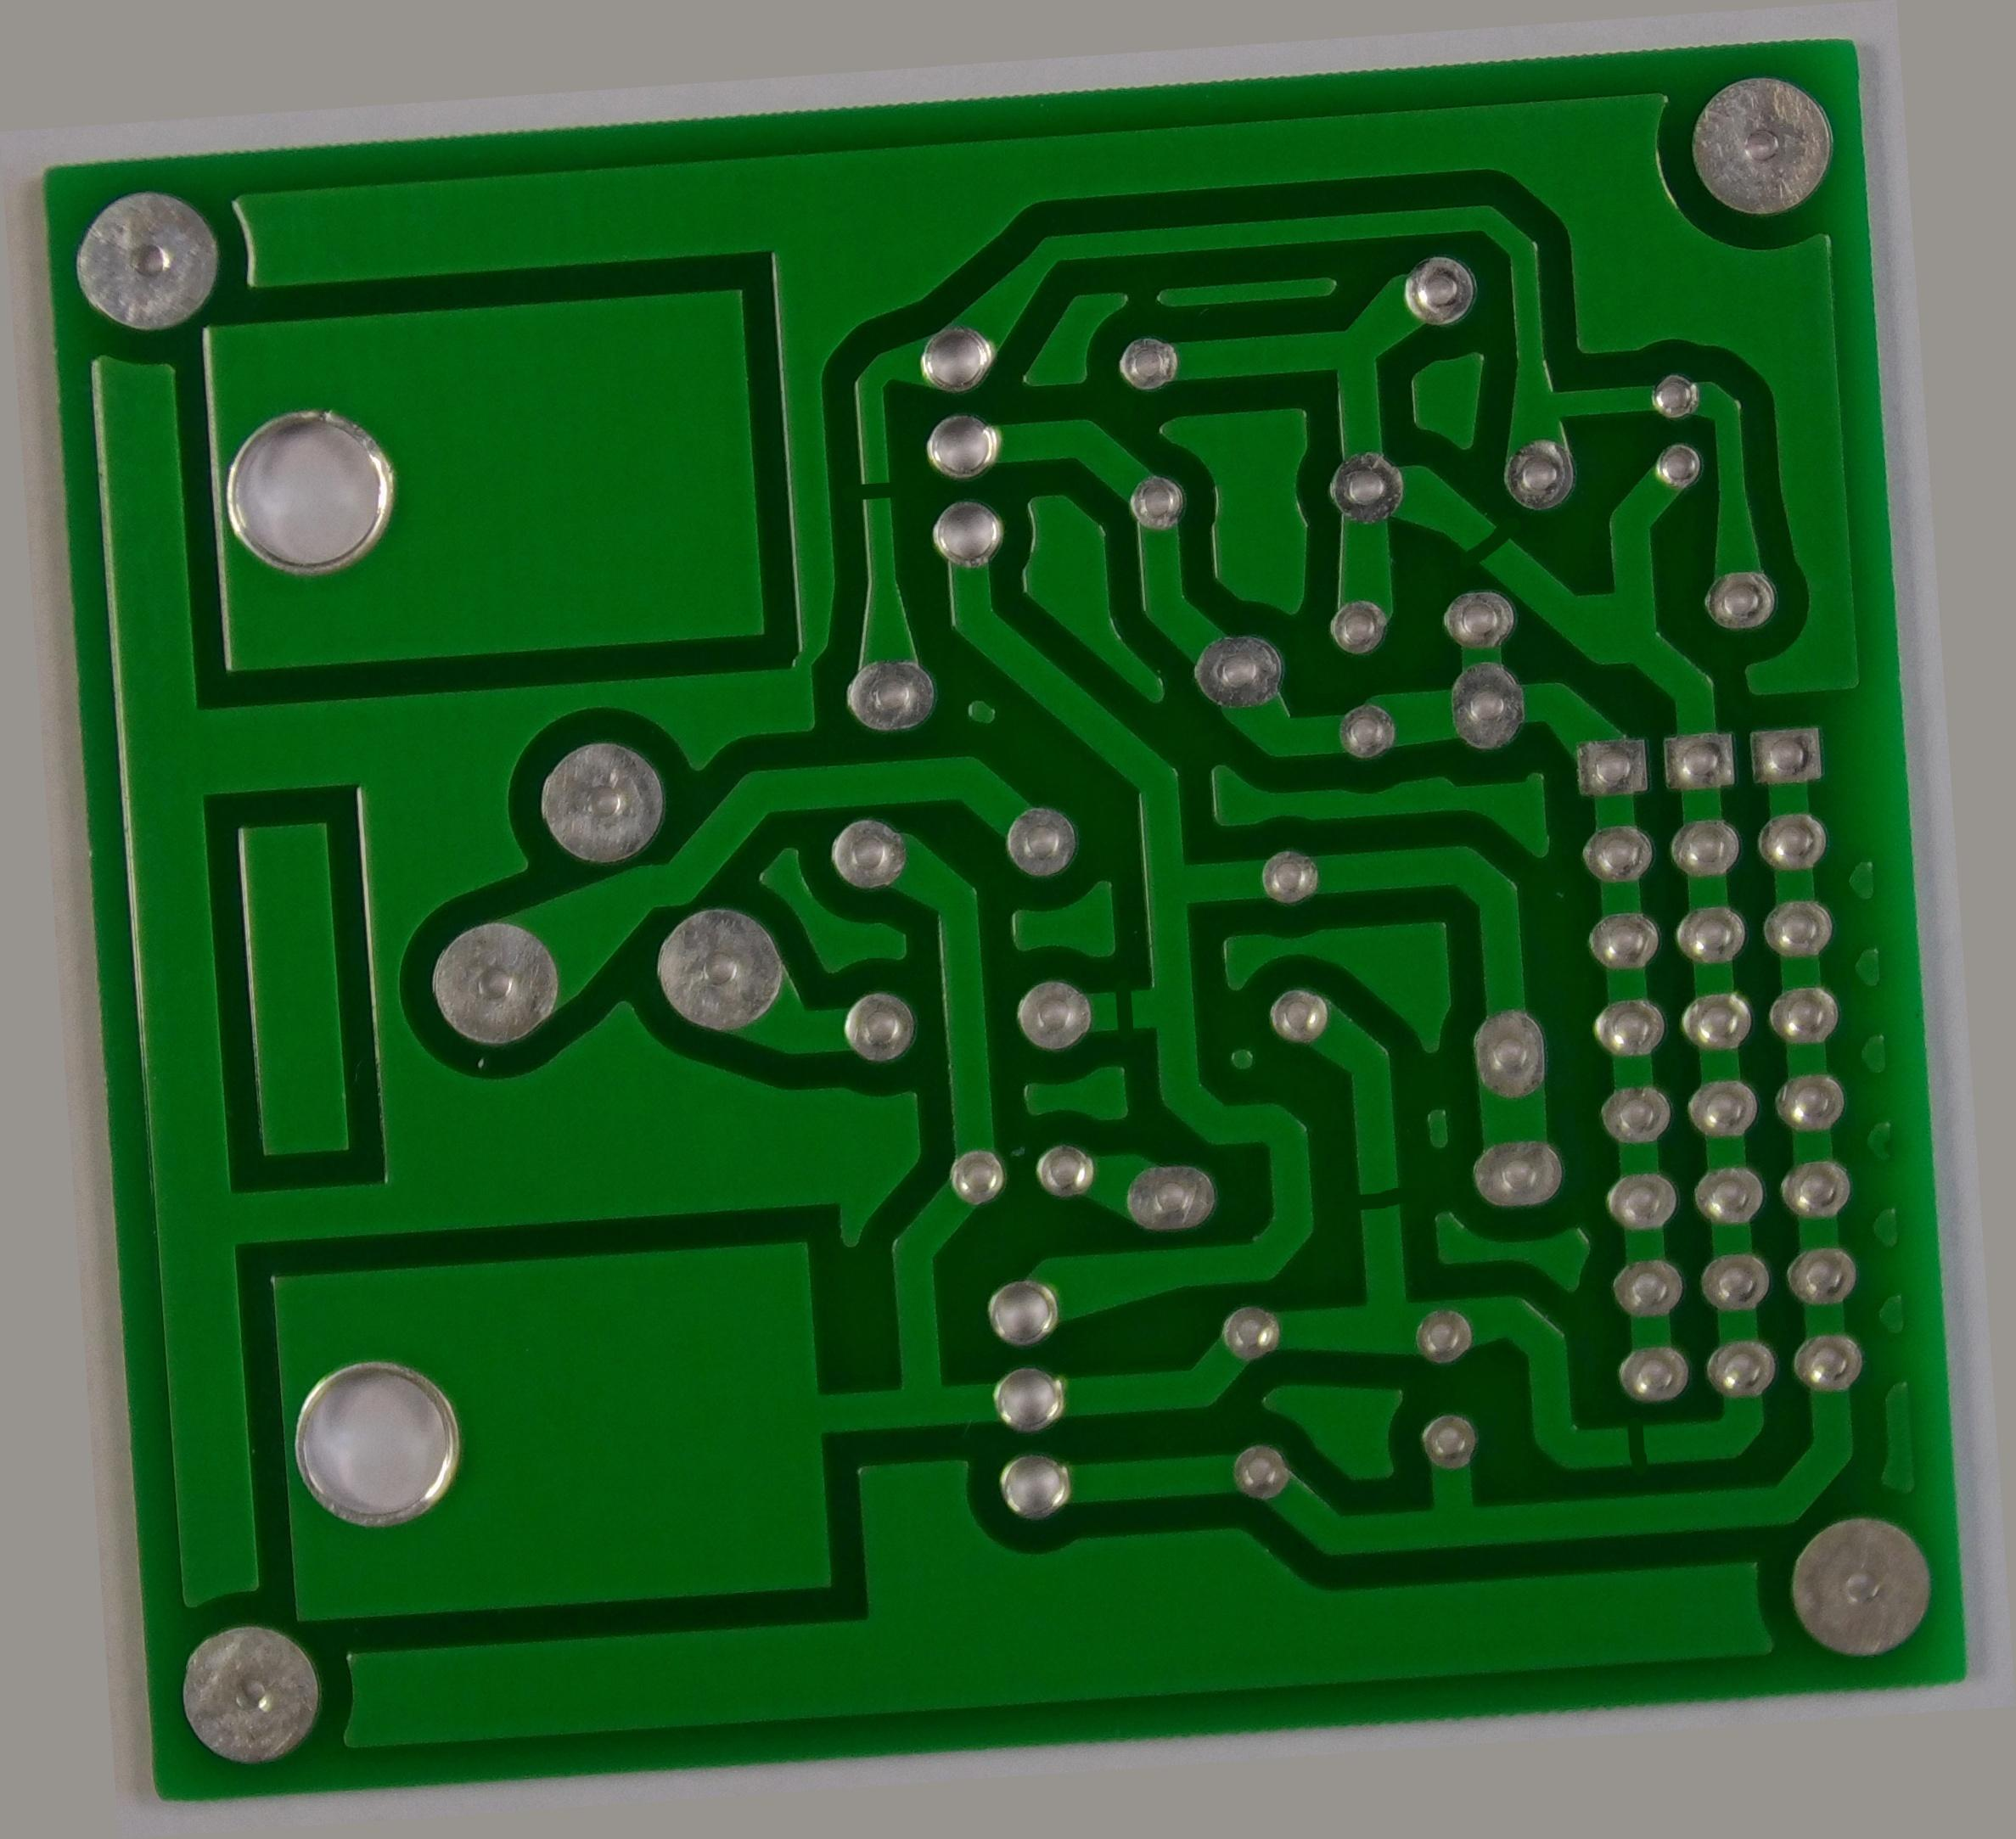open_circuit: (1496, 520, 1575, 580), (1340, 1222, 1422, 1275), (1602, 1496, 1660, 1560), (1098, 987, 1145, 1061), (875, 429, 929, 476)
